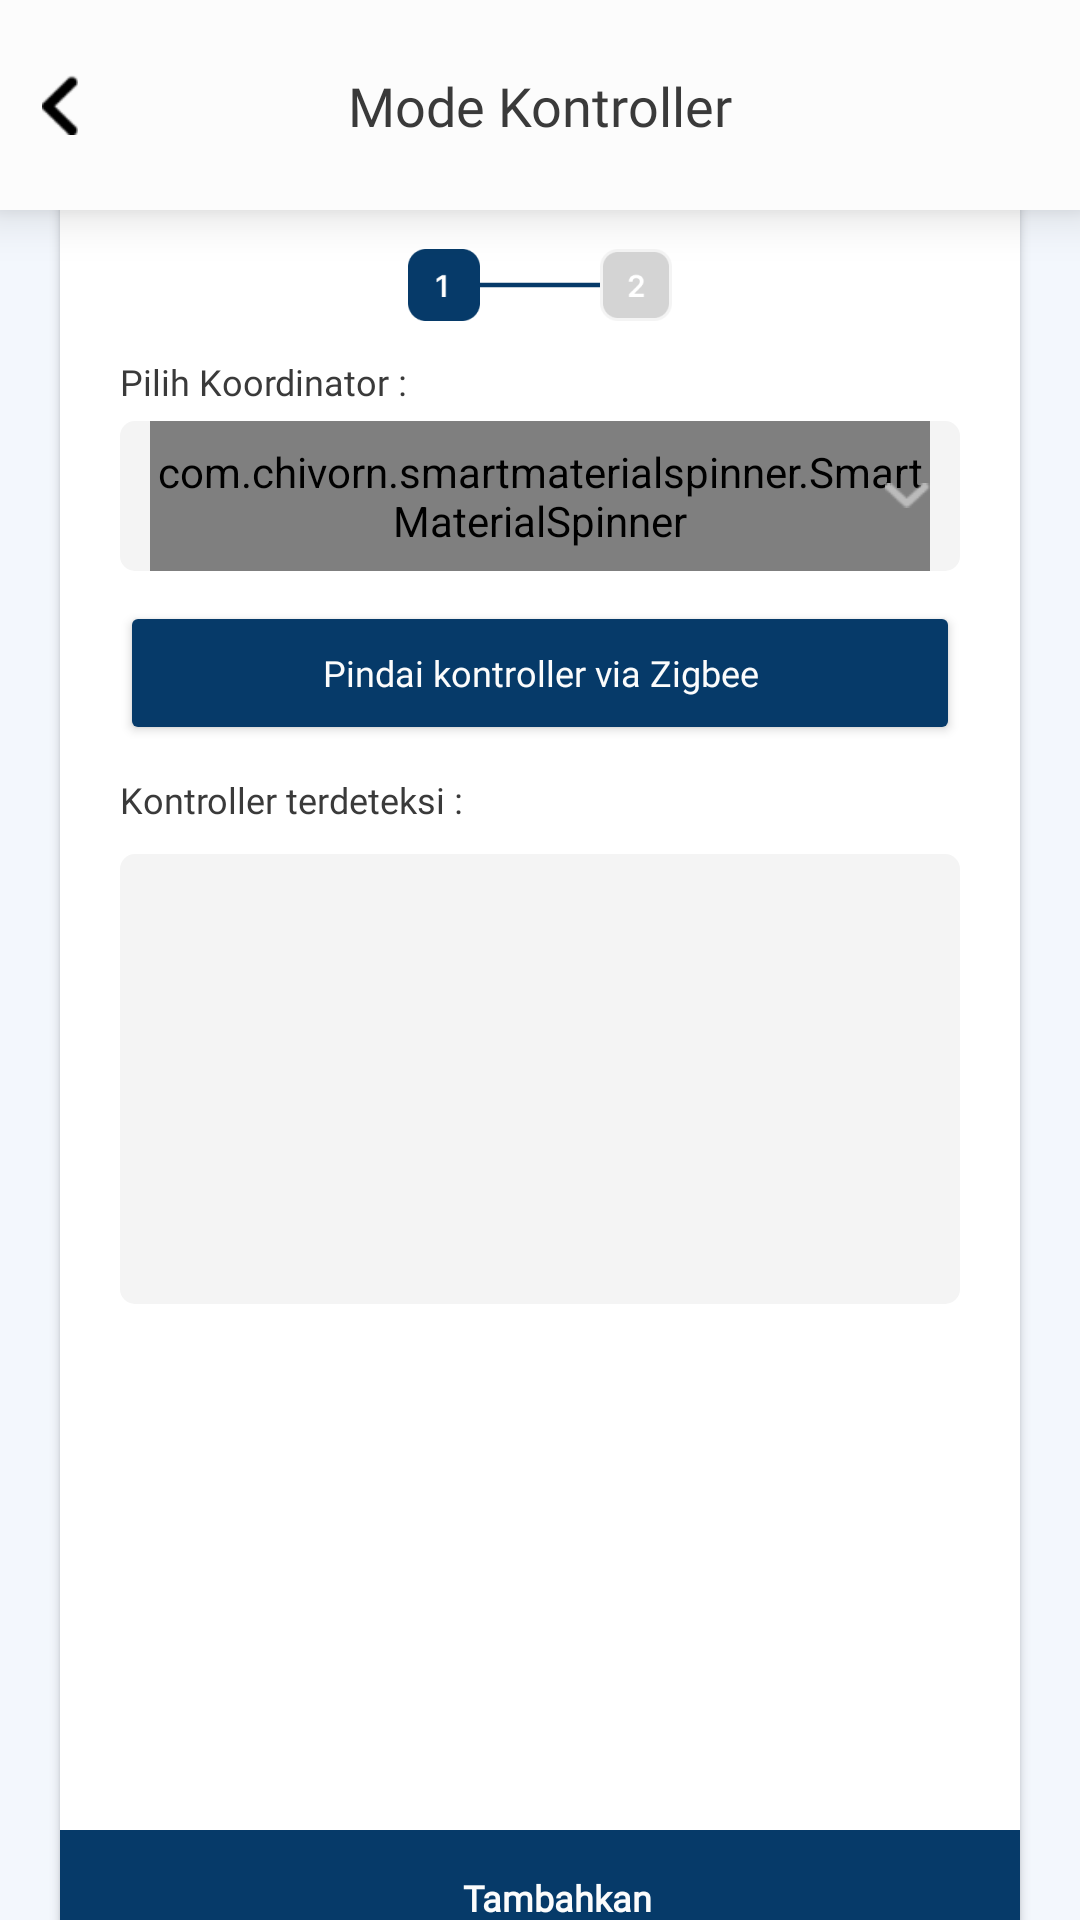

Screen size 1080w x 1920h. Icon name, then its center in pixels as (x=x, y=y):
arrow back: (x=60, y=105)
progressbar one: (x=538, y=285)
